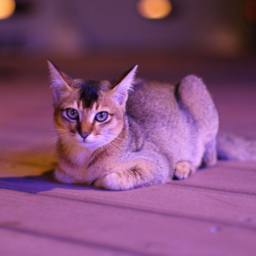cat: (43, 57, 244, 195)
